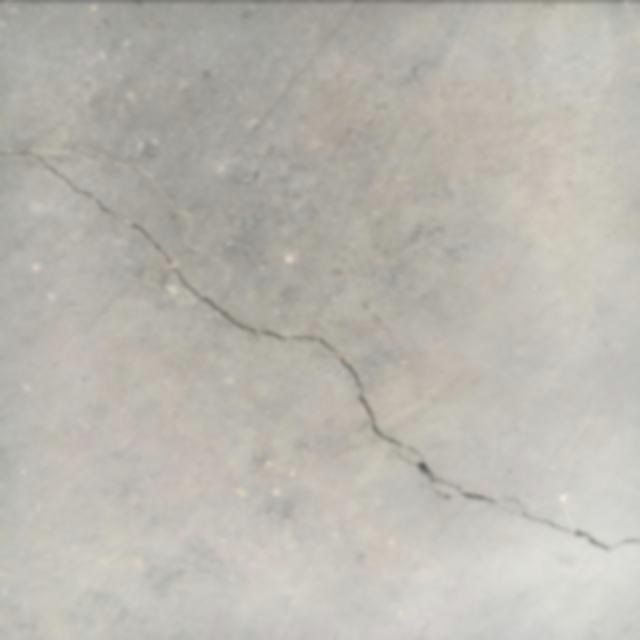SurfaceCrack: (0, 104, 638, 611)
